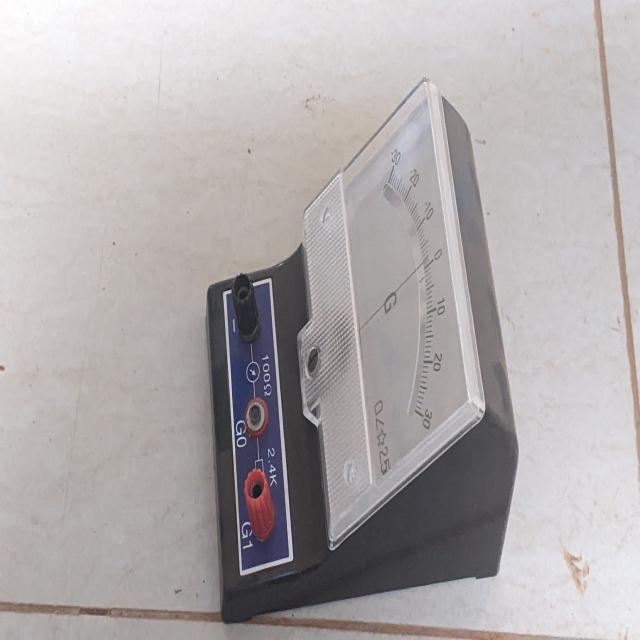Galvanometer: (169, 66, 530, 636)
